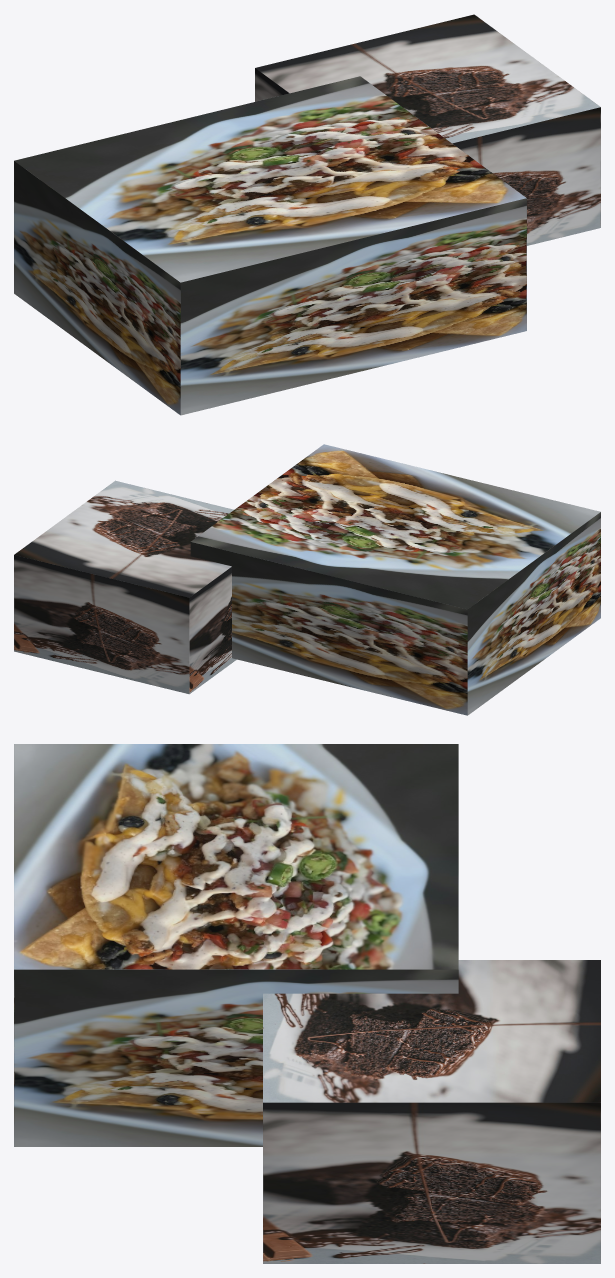
The model's file is p11-nacho-deal.glb.
The picture shows the model from 3 angles, top to bottom: view 1: azimuth 30°, elevation 25°; view 2: azimuth 150°, elevation 25°; view 3: azimuth 270°, elevation 25°; orthographic projection. The views are drawn at different scales.
Size of the model in its own units: 2.23 by 0.575 by 1.65.
2 materials, 2 textured.
